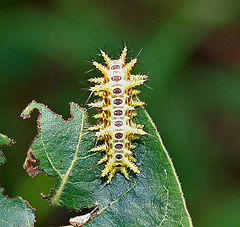Pest! (nettle_caterpillar): (83, 38, 155, 183)
